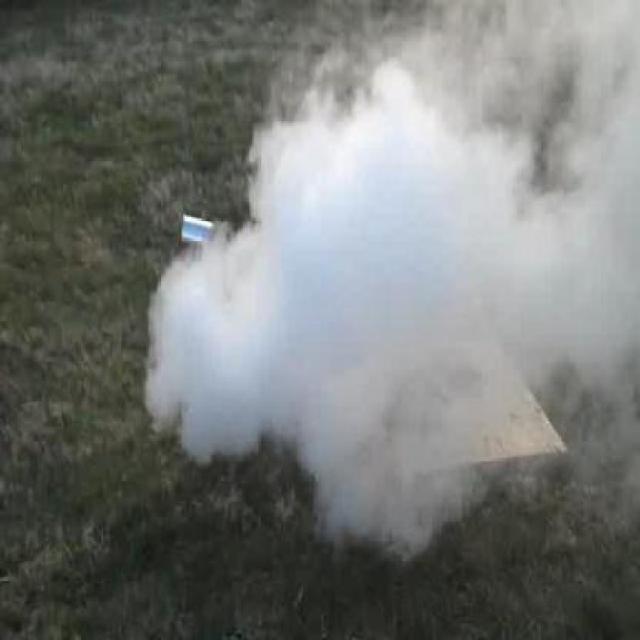Smoke: (135, 9, 640, 571)
